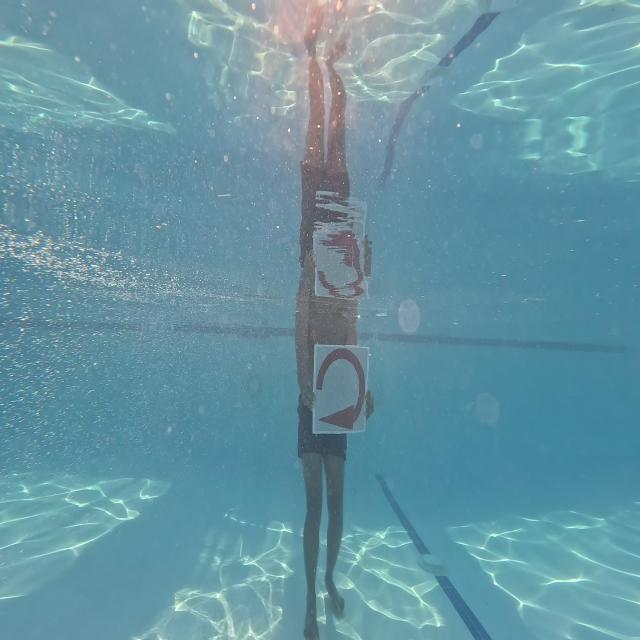red_side: (312, 346, 368, 438)
